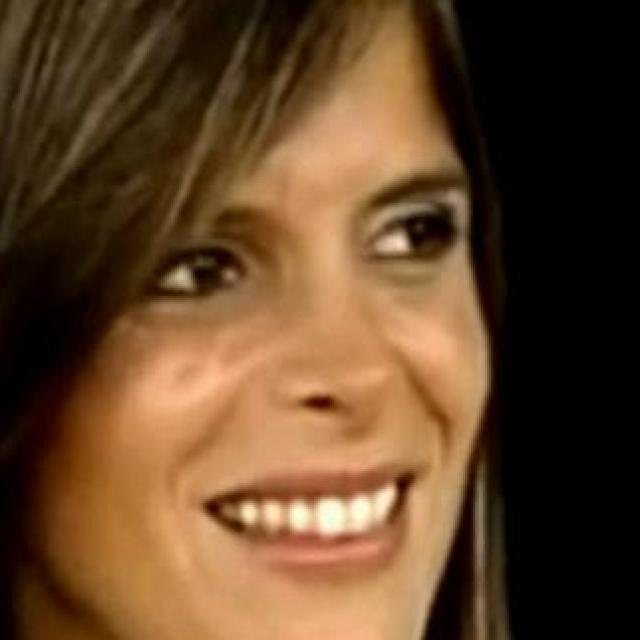Normal: (20, 0, 494, 638)
